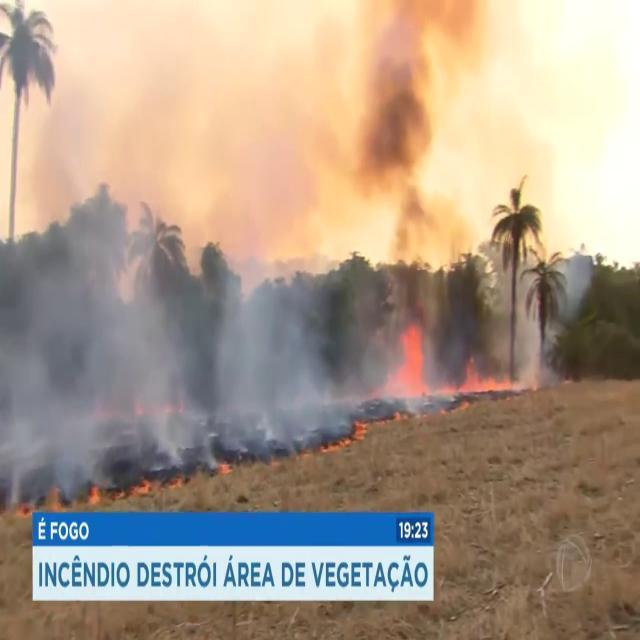Fire: (380, 321, 514, 410)
Smoke: (0, 96, 347, 490), (247, 1, 479, 276)
